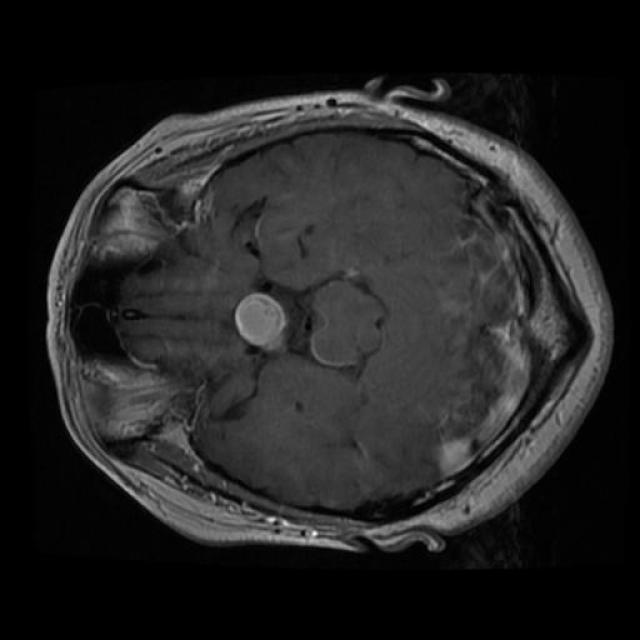Pituitary: (235, 293, 288, 352)
